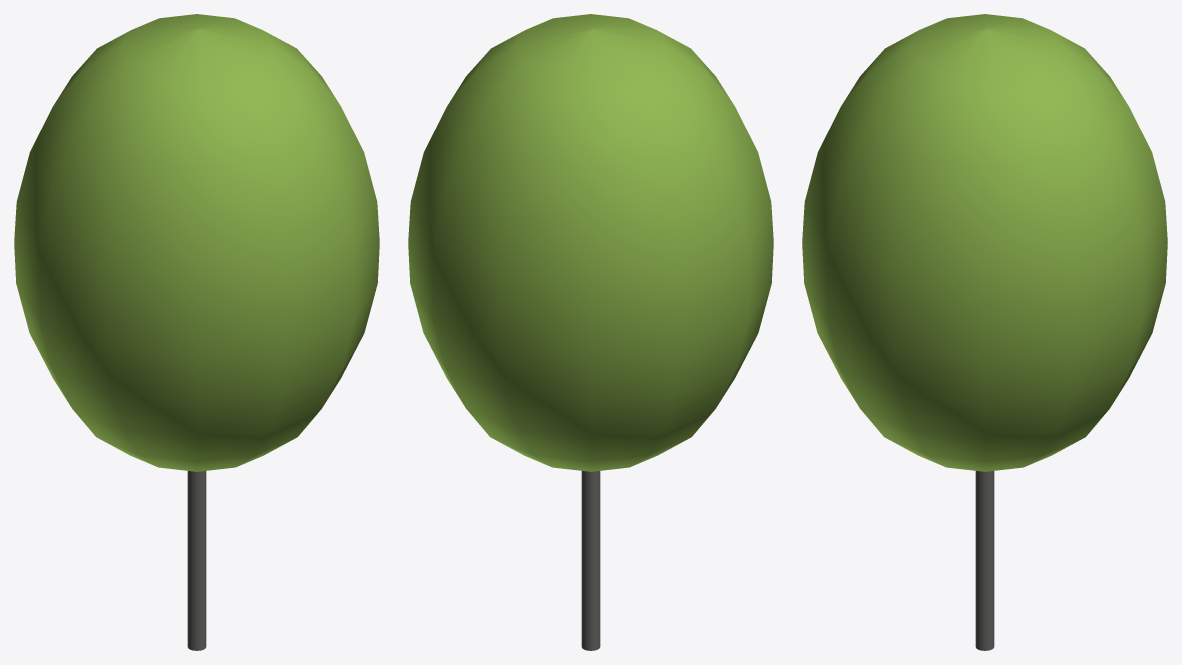
The model's file is Black_Locust_Analytical_0.obj.
The picture shows the model from 3 angles, left to right: view 1: azimuth 30°, elevation 25°; view 2: azimuth 150°, elevation 25°; view 3: azimuth 270°, elevation 25°; orthographic projection.
Parts seen in each view (by area): view 1: AnalyticalCrown, AnalyticalTrunk; view 2: AnalyticalCrown, AnalyticalTrunk; view 3: AnalyticalCrown, AnalyticalTrunk.
Part boxes in pixels (x1,y1,x2,y2): AnalyticalCrown: (14,14,379,471); AnalyticalTrunk: (187,471,206,650); AnalyticalCrown: (408,14,773,471); AnalyticalTrunk: (581,471,600,650); AnalyticalCrown: (802,14,1167,471); AnalyticalTrunk: (975,471,994,650).
Size of the model in its own units: 6.98 by 13 by 6.98.
